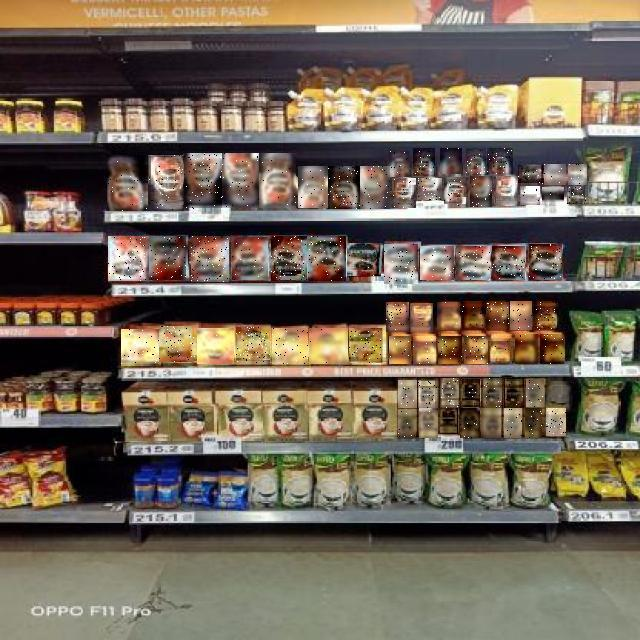Coffee: (108, 155, 148, 211), (183, 154, 222, 210), (222, 154, 260, 210), (260, 154, 298, 210), (148, 155, 184, 211), (108, 236, 149, 281), (191, 236, 229, 282), (309, 236, 347, 281), (150, 237, 188, 281), (271, 236, 307, 281), (232, 237, 268, 280), (309, 328, 348, 364), (360, 166, 392, 209), (329, 166, 361, 209), (121, 330, 159, 366), (384, 244, 418, 284), (197, 328, 234, 364), (272, 328, 308, 364), (160, 327, 196, 363), (298, 167, 328, 209), (350, 328, 386, 363), (347, 244, 381, 280), (236, 328, 270, 364), (529, 245, 562, 281), (420, 246, 454, 280), (456, 246, 490, 280), (492, 246, 525, 280), (392, 178, 416, 208), (516, 334, 540, 364), (541, 334, 565, 364), (386, 302, 409, 332), (470, 176, 492, 207), (487, 148, 513, 174), (438, 336, 462, 364), (464, 336, 488, 364), (534, 301, 557, 330), (410, 303, 433, 332), (496, 176, 518, 206), (445, 178, 467, 208), (490, 334, 512, 364), (437, 302, 460, 330), (486, 302, 509, 330), (413, 336, 436, 364), (510, 301, 532, 330), (413, 149, 435, 177), (462, 302, 484, 330), (389, 336, 411, 364), (440, 378, 460, 408), (504, 378, 524, 408), (460, 408, 480, 438), (481, 408, 501, 438), (441, 149, 463, 175), (483, 378, 502, 408), (419, 408, 438, 438), (466, 149, 486, 177), (419, 380, 439, 408), (546, 409, 566, 437), (526, 408, 544, 438), (504, 408, 522, 438), (398, 380, 417, 408), (418, 178, 442, 200), (389, 151, 409, 177), (519, 166, 545, 186), (462, 379, 480, 407), (527, 379, 545, 407), (398, 410, 416, 438), (440, 408, 458, 434), (545, 164, 567, 185), (568, 164, 587, 185), (520, 186, 540, 205), (568, 187, 588, 205), (542, 188, 564, 204)
